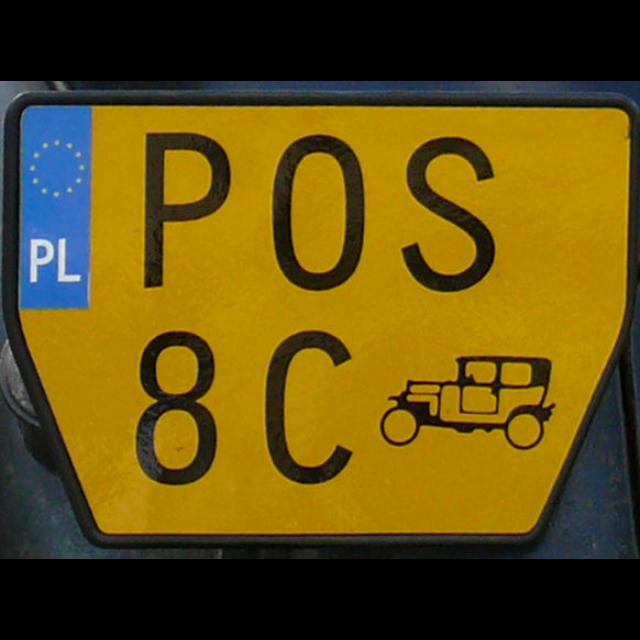pl_license_plate: (15, 99, 631, 542)
